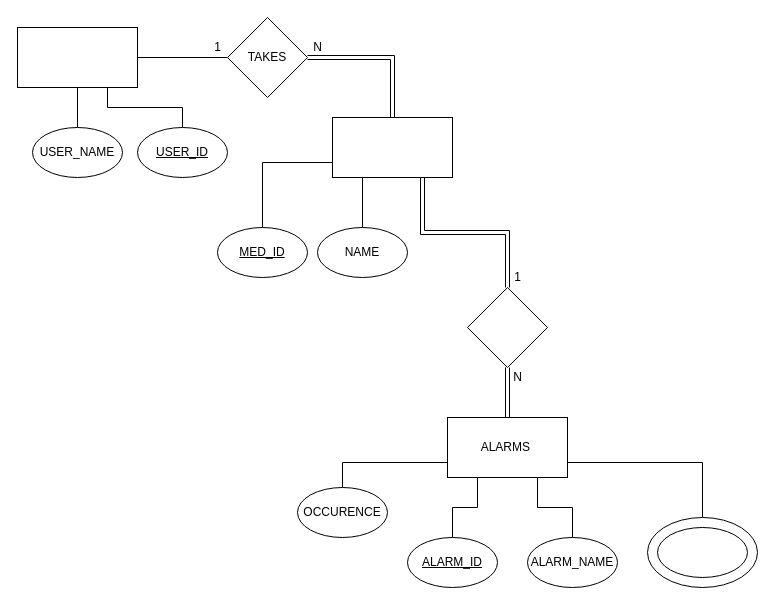
This 775x605 diagram has some shape labels left out. The shapes that lost their labels are listed below. From the top down, each one's centre as x and y in pixels, then its label:
At (x=77, y=57): "USER".
At (x=392, y=147): "MEDICINE".
At (x=507, y=327): "HAS".
At (x=702, y=552): "HOUR".
